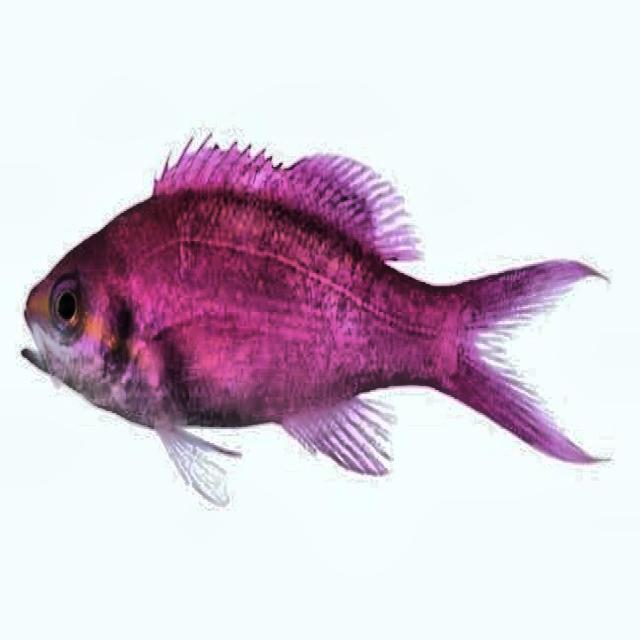fish: (19, 129, 613, 512)
